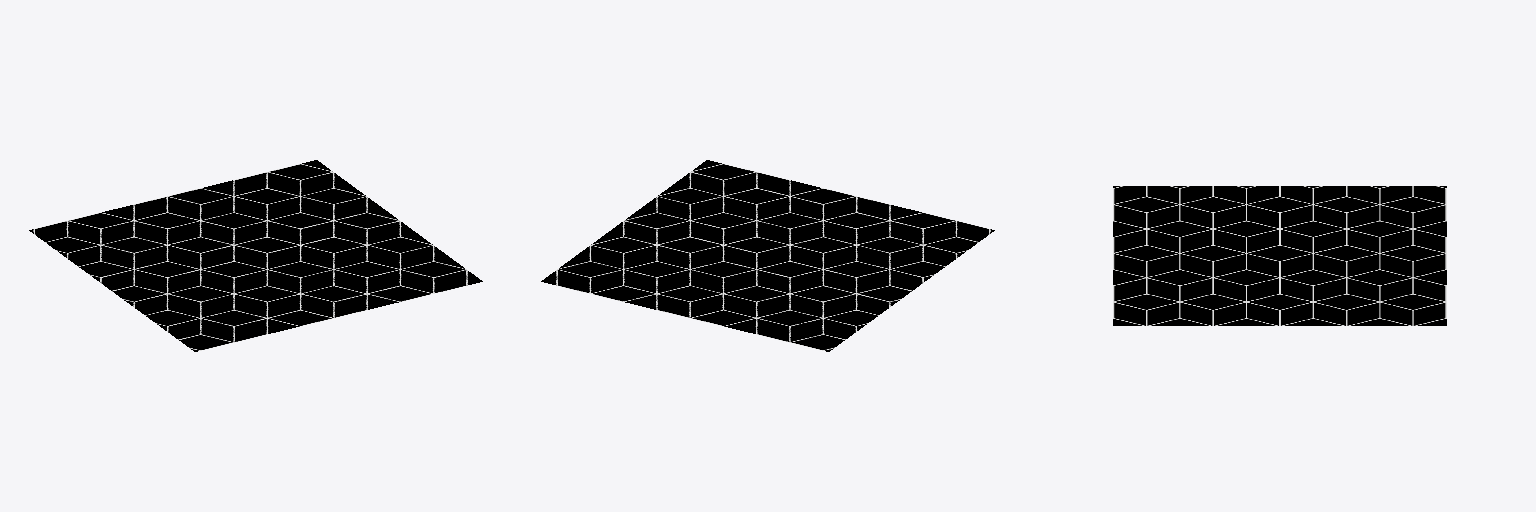
3 renders of one model, left to right at view 1: azimuth 30°, elevation 25°; view 2: azimuth 150°, elevation 25°; view 3: azimuth 270°, elevation 25°, orthographic.
Parts seen in each view (by area): view 1: Plane; view 2: Plane; view 3: Plane.
Boxes of the visible parts, box(x1,y1,x2,y2) form: Plane: box(29, 160, 482, 351); Plane: box(541, 160, 994, 351); Plane: box(1113, 186, 1446, 325).
Bounding box in the file's own units: 2 × 0 × 2.
1 materials, 1 textured.